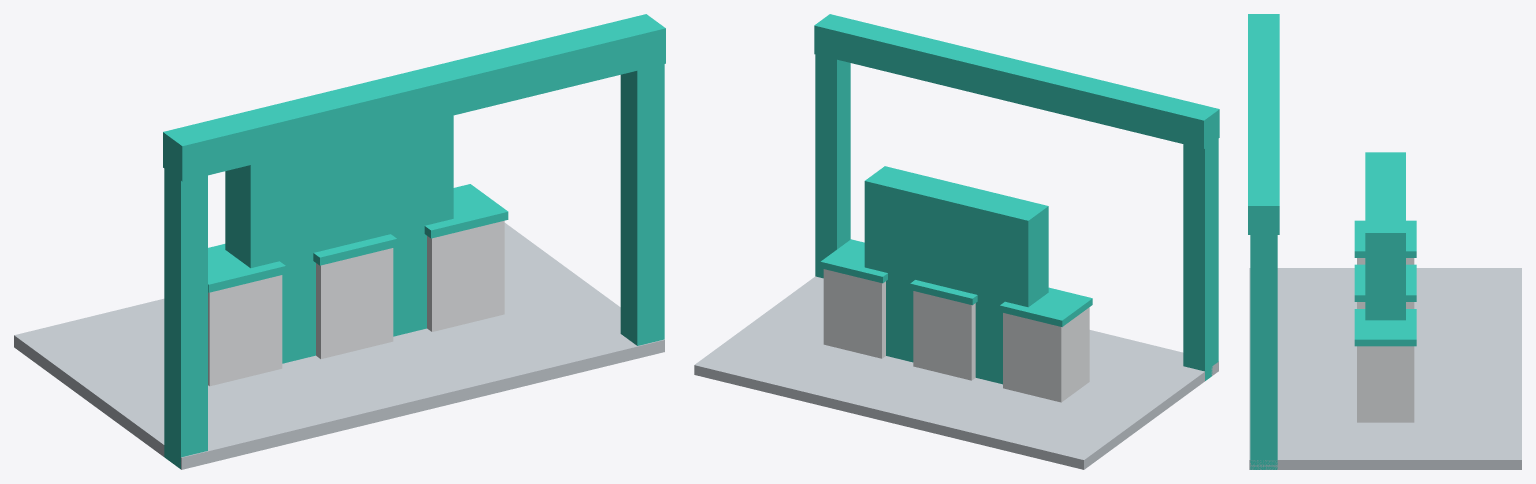
The picture shows the model from 3 angles, left to right: view 1: azimuth 30°, elevation 25°; view 2: azimuth 150°, elevation 25°; view 3: azimuth 270°, elevation 25°; orthographic projection. The views are drawn at different scales.
Parts seen in each view (by area): view 1: Exhibition Booth Concept; view 2: Exhibition Booth Concept; view 3: Exhibition Booth Concept.
Part boxes in pixels (x1,y1,x2,y2): Exhibition Booth Concept: (14, 14, 665, 469); Exhibition Booth Concept: (694, 14, 1219, 469); Exhibition Booth Concept: (1248, 14, 1521, 469).
Bounding box in the file's own units: 5 × 3.2 × 3.01.
